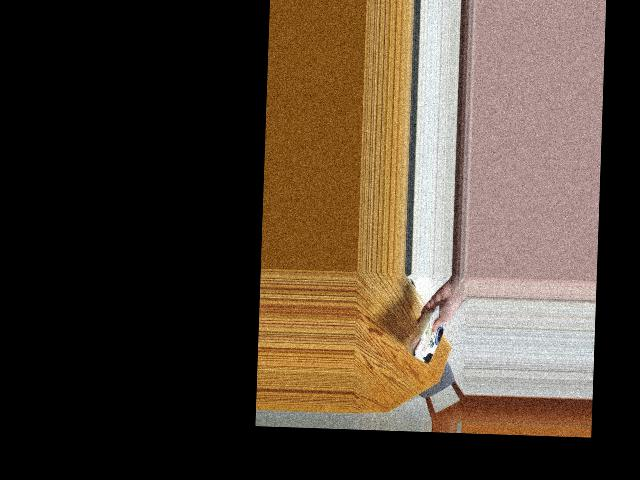cheese: (406, 313, 453, 361)
